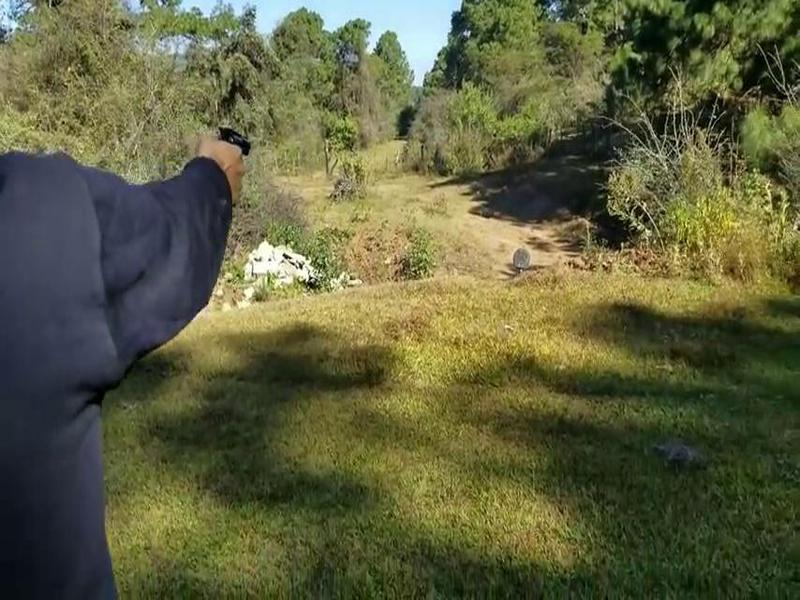Revolver: (201, 106, 270, 177)
